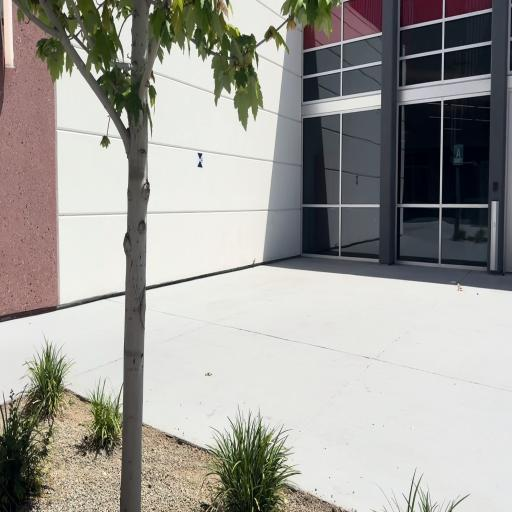target4: (198, 152, 204, 168)
